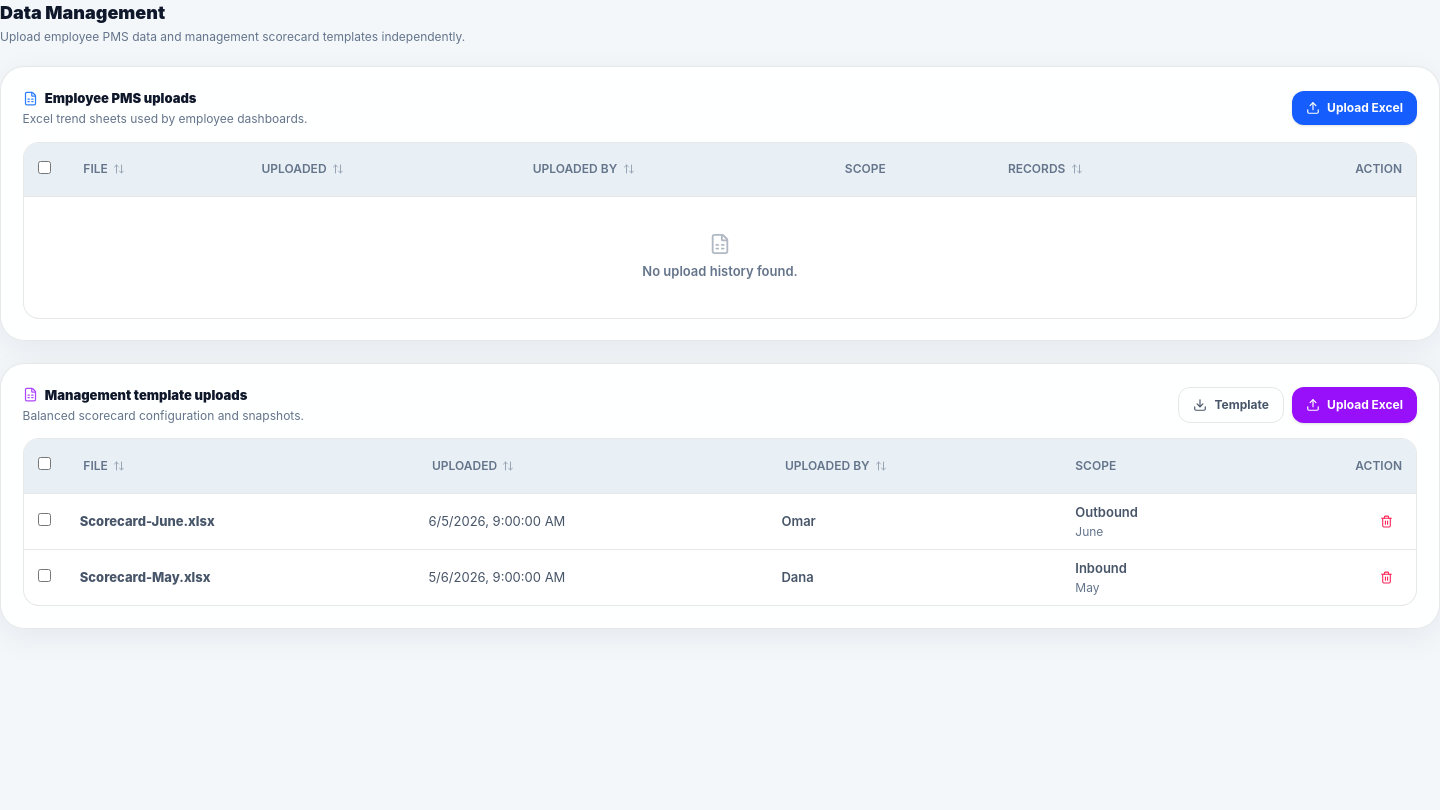
DataManagementPanel with failed_ids from the server › reports a full success when failed_ids is present and empty
Click the 2nd checkbox named "Select all uploads" at coordinates (44, 464), box [38, 457, 51, 470]
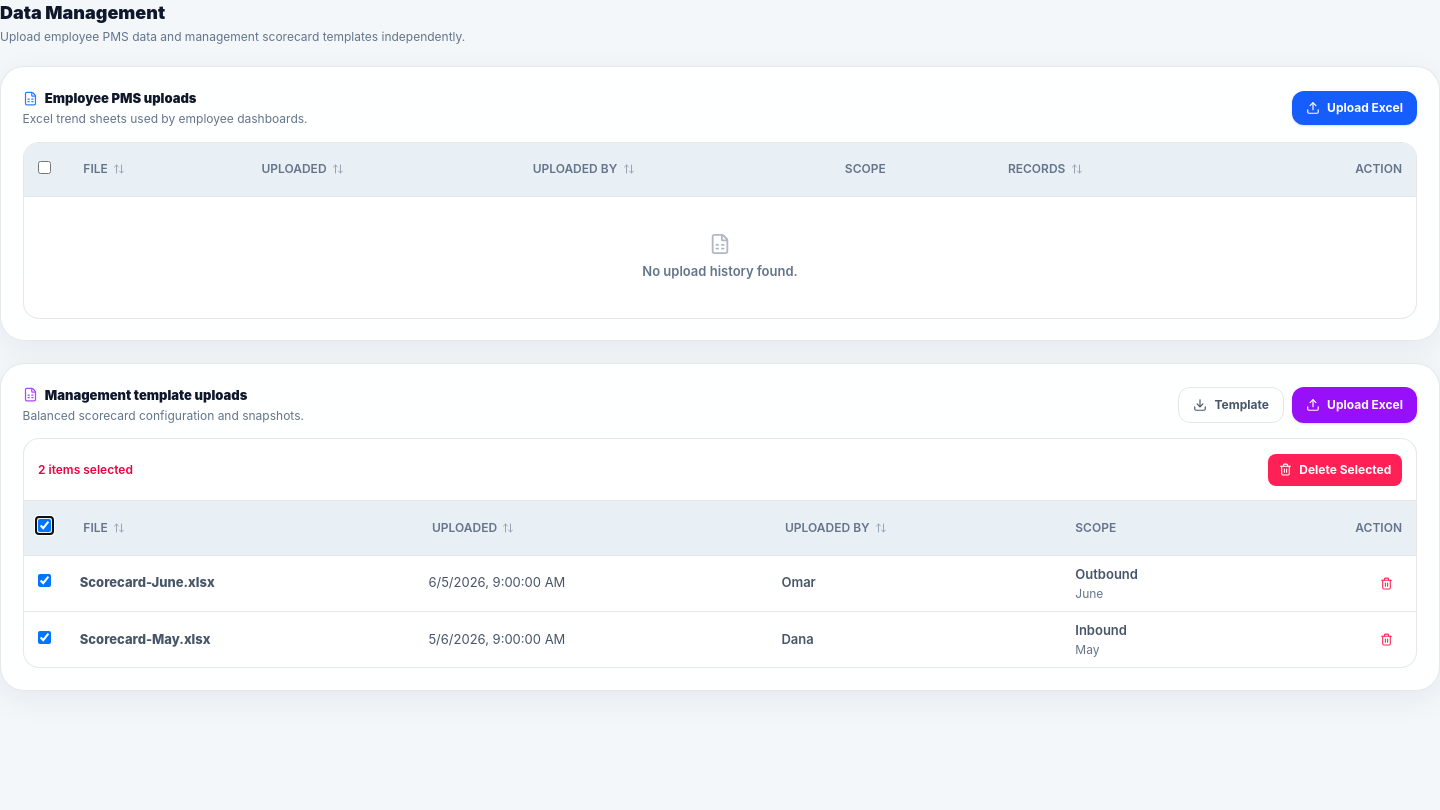
Click the button "Delete Selected" at coordinates (1335, 470), box [1268, 454, 1402, 486]
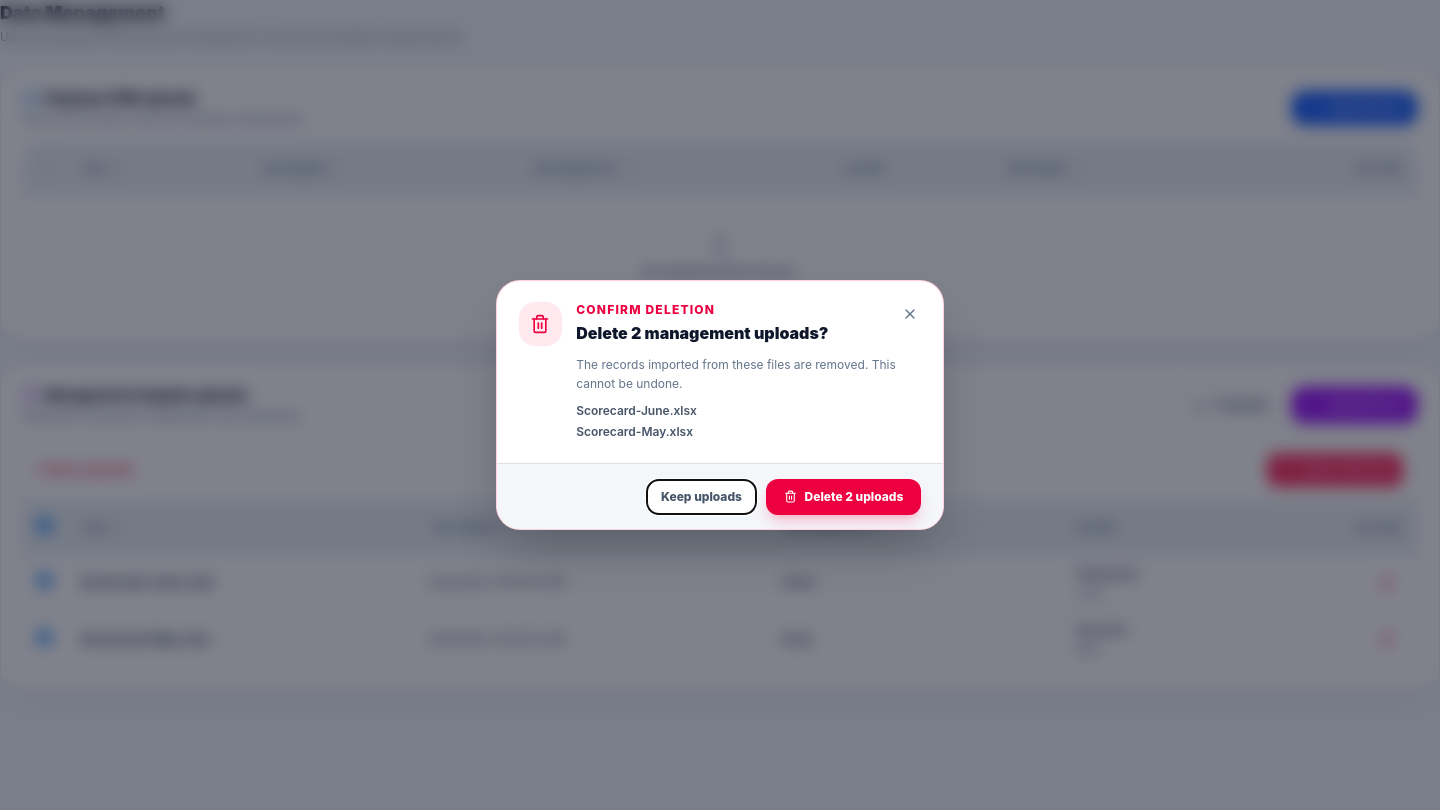
Click the button "Delete 2 uploads" at coordinates (844, 497), box [766, 479, 921, 515]
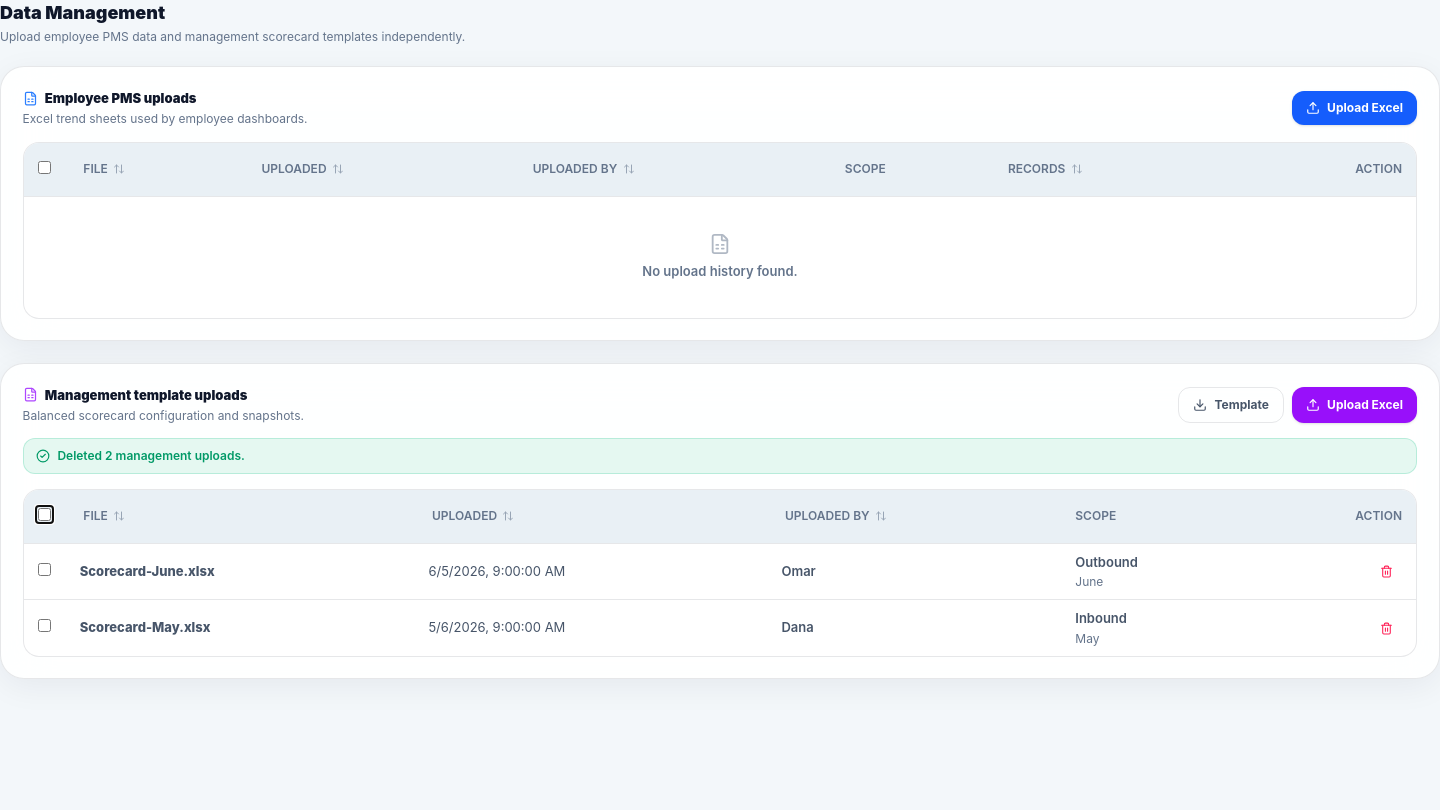
Expected: the message reads "Deleted 2 management uploads.", [57, 448, 245, 463]
